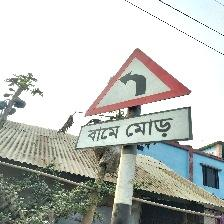Left-Turn: (80, 48, 195, 149)
